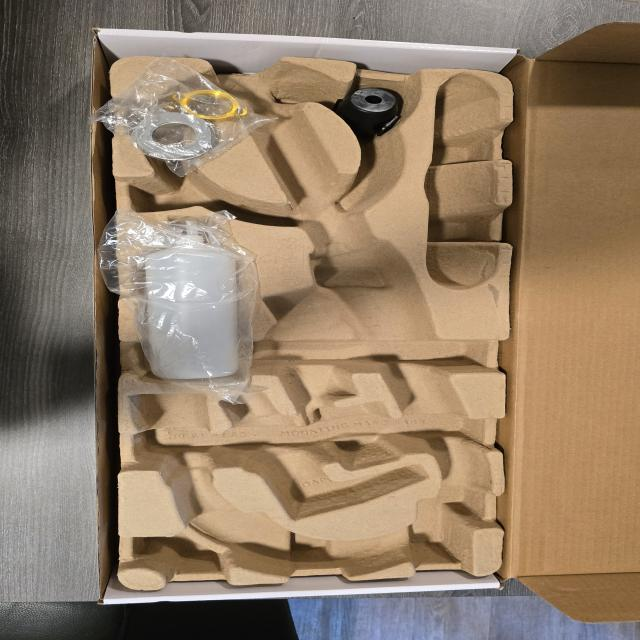1m: (127, 59, 491, 576)
2m: (221, 394, 425, 518)
3: (143, 217, 237, 382)
4m: (424, 75, 499, 289)
5: (338, 86, 402, 135)
6: (92, 56, 282, 177)
7m: (129, 163, 263, 221)
